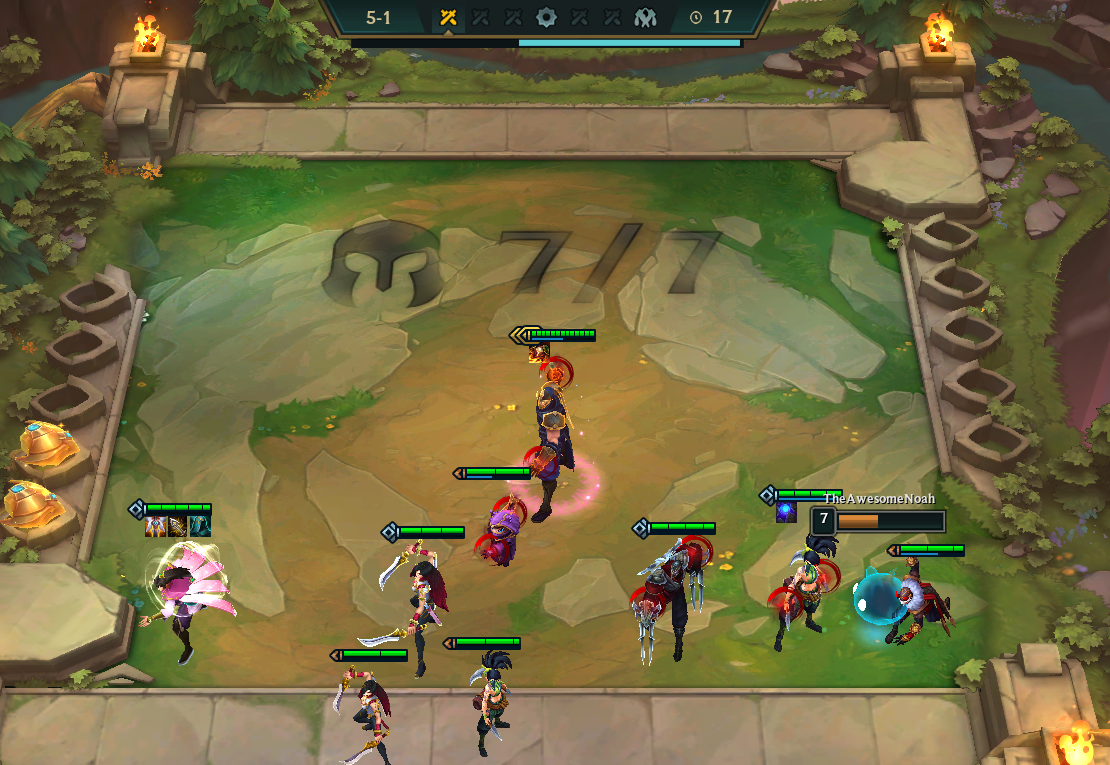1star_akali: (434, 623, 533, 765)
1star_katarina: (317, 642, 416, 765)
1star_kennen: (448, 459, 536, 577)
1star_pyke: (870, 536, 968, 661)
2star_akali: (746, 479, 849, 660)
2star_katarina: (349, 515, 474, 686)
2star_talon: (118, 489, 247, 670)
2star_zed: (615, 501, 731, 681)
3star_shen: (501, 318, 612, 530)
3star_shen_chosen: (499, 316, 610, 528)
item_bluebuff: (774, 497, 797, 525)
item_ga: (144, 512, 167, 540)
item_ie: (165, 511, 188, 539)
item_quicksilver: (189, 510, 212, 538)
item_sunfire: (528, 337, 551, 365)
